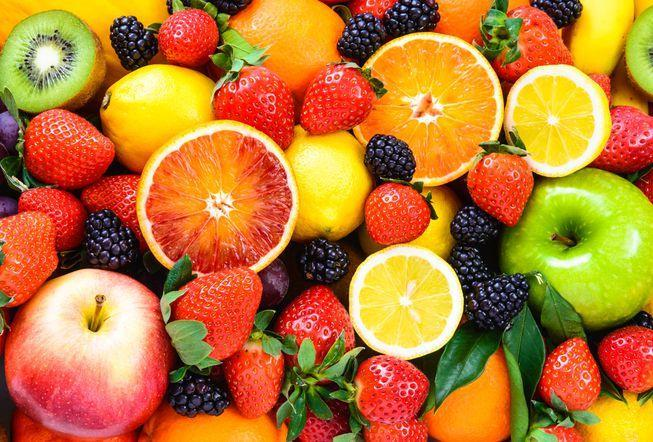apple: (6, 270, 175, 438), (500, 167, 653, 330)
